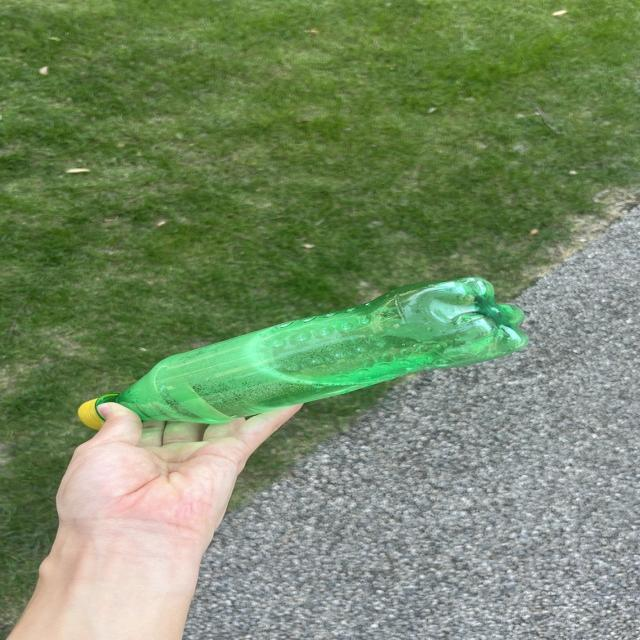medium: (79, 278, 526, 428)
